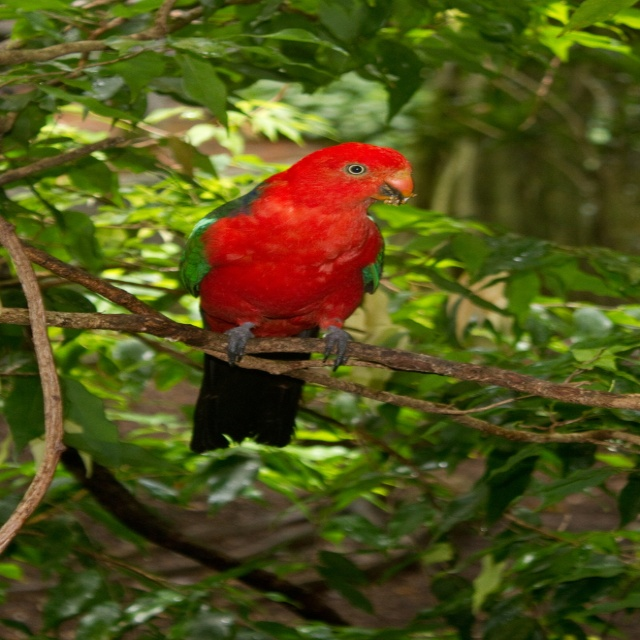Parrot: (178, 142, 417, 454)
